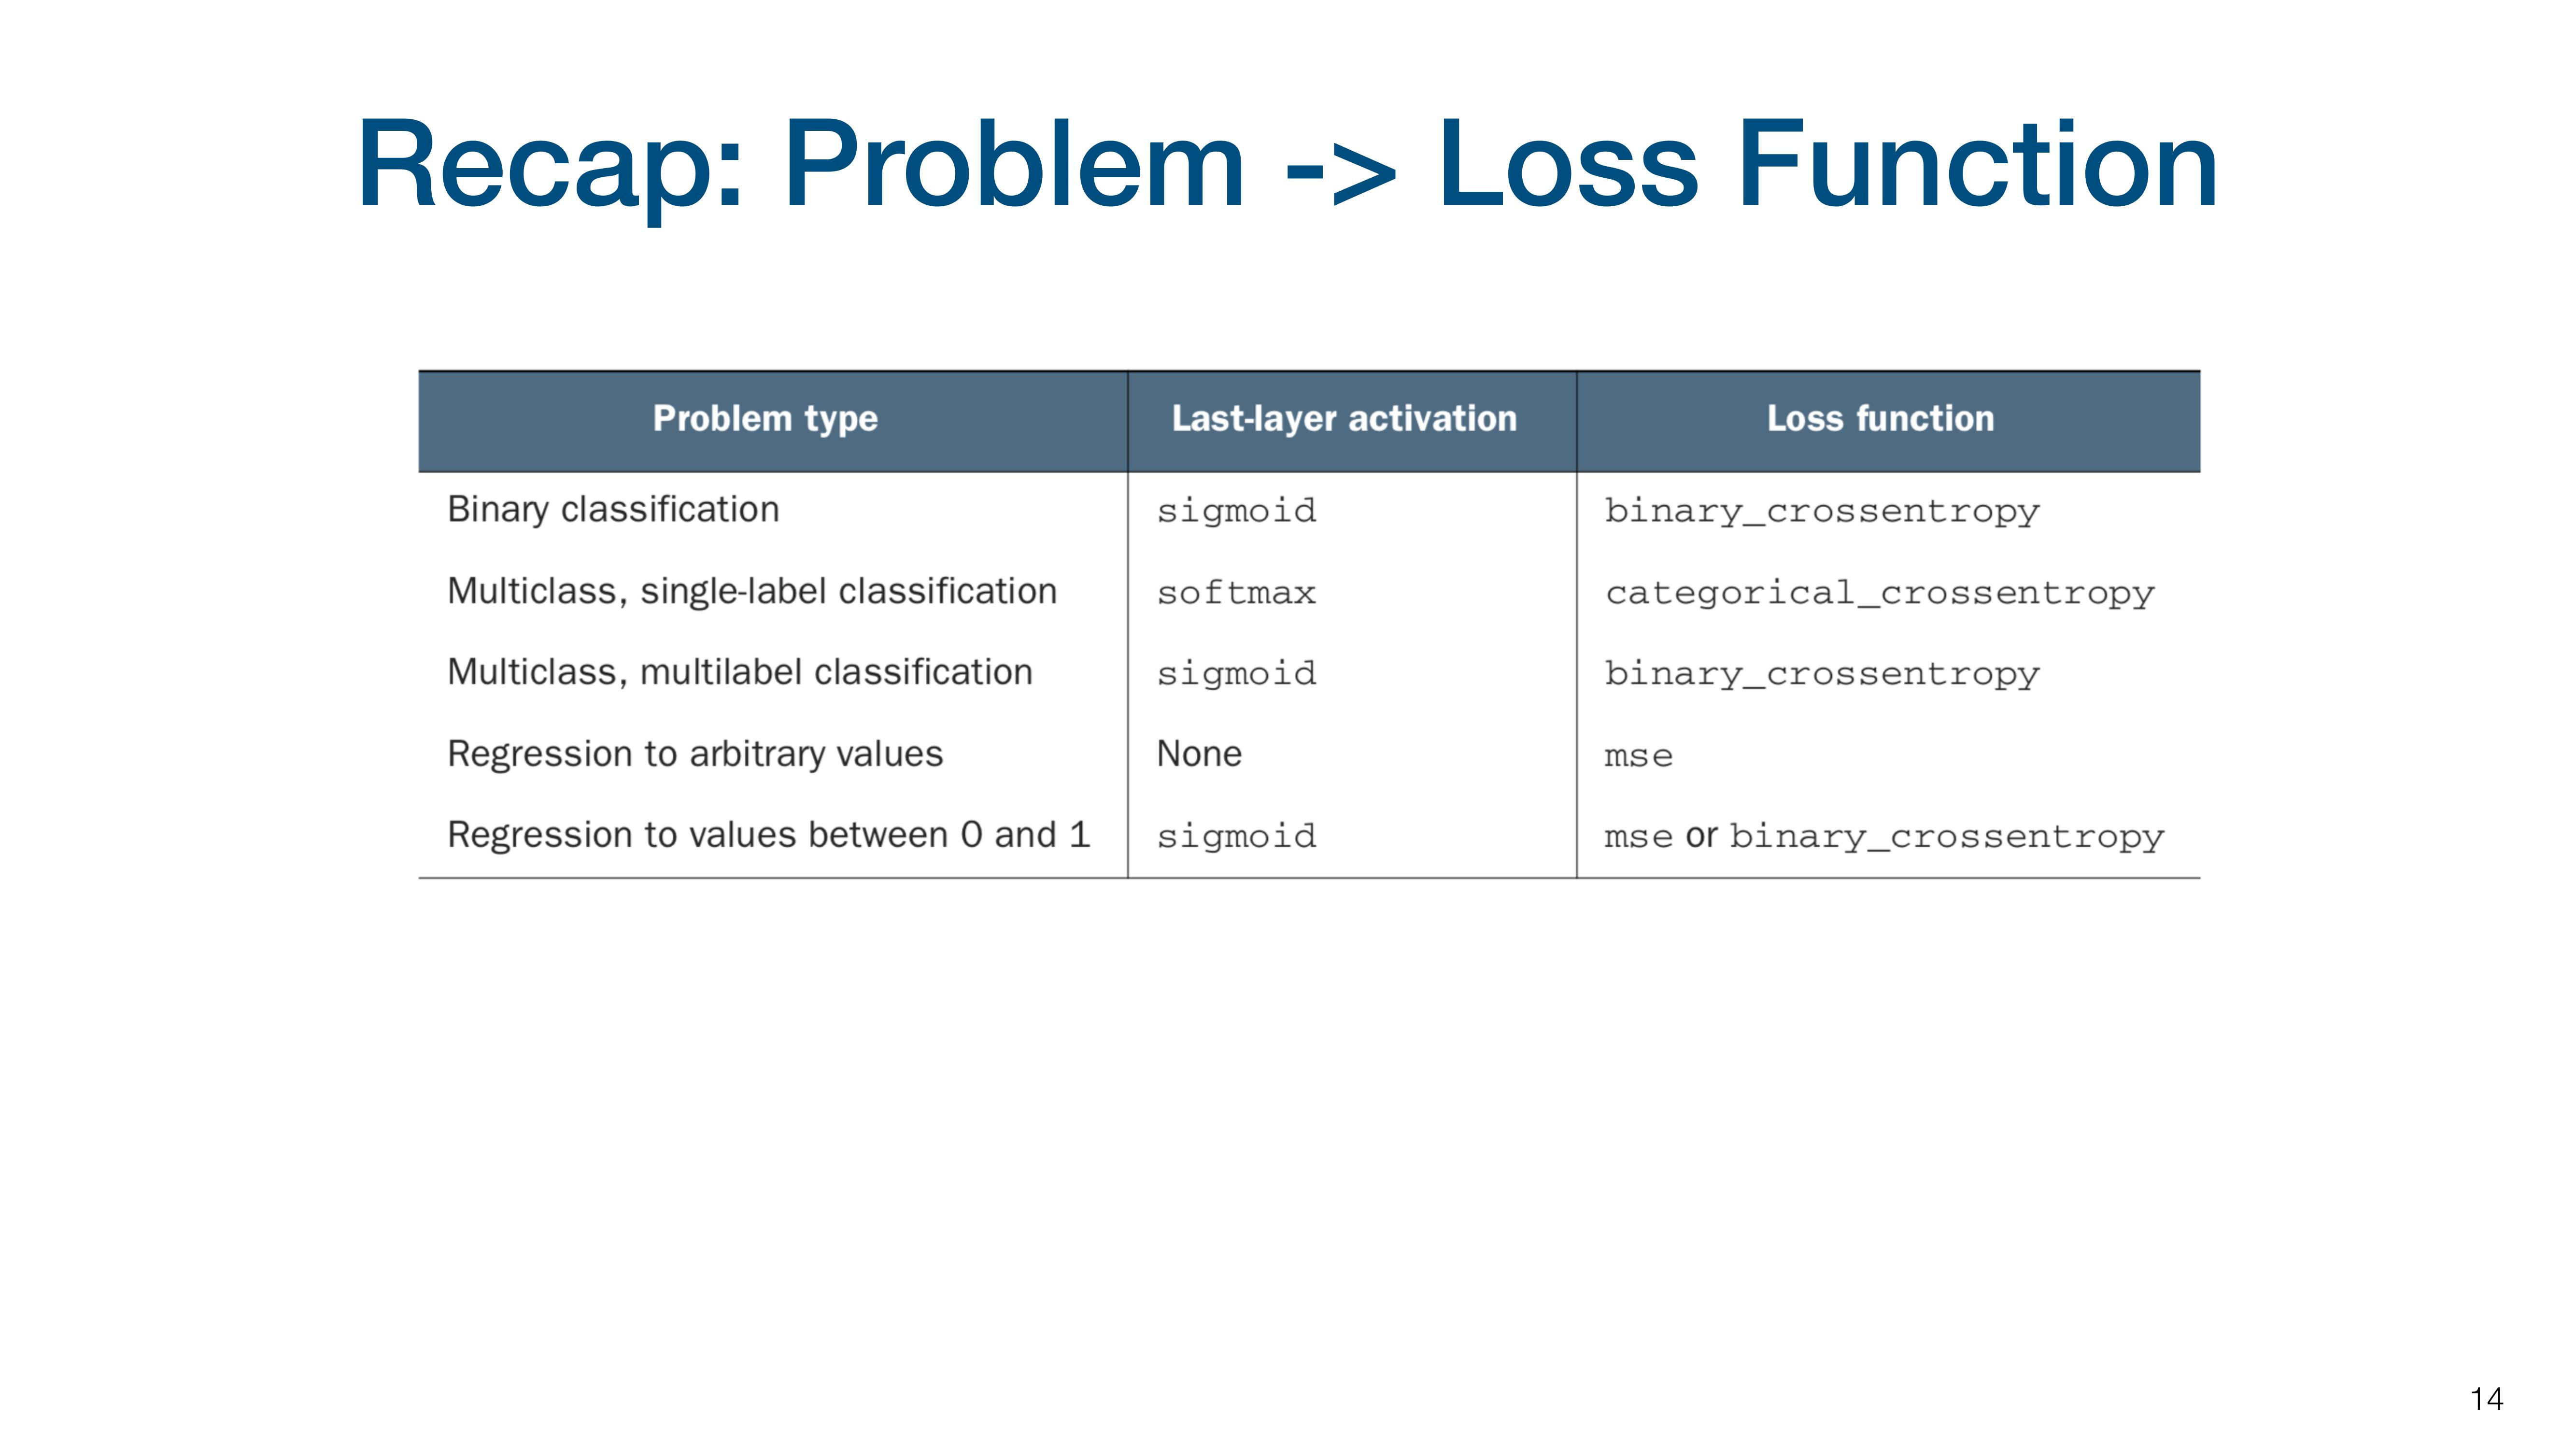Title: (340, 88, 2227, 249)
